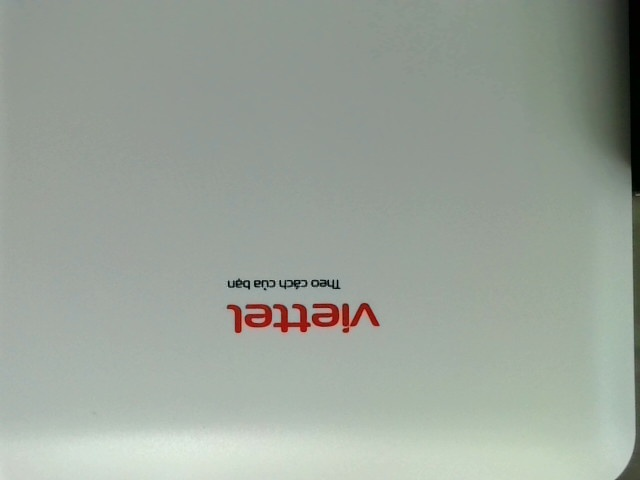AY_Viettel: (219, 273, 382, 333)
